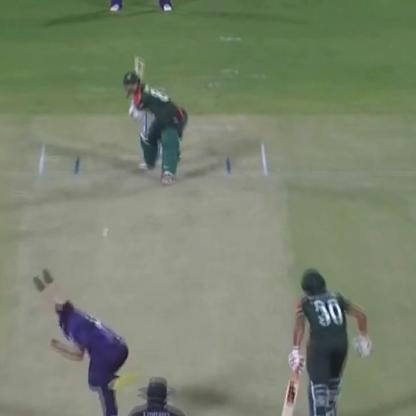ball: (102, 226, 110, 236)
bat: (274, 348, 308, 416), (123, 46, 146, 96)
pitch: (3, 136, 298, 416)
